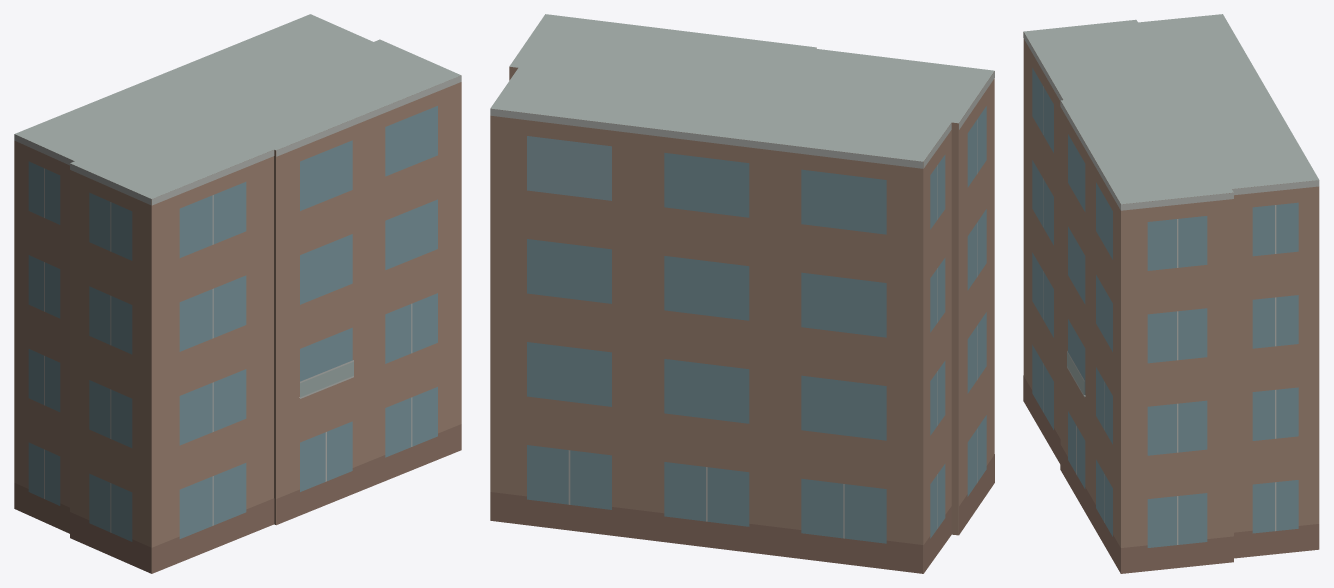
File: survey-upis-32832232.glb
3 views of the same model, side by side, from view 1: azimuth 30°, elevation 25°; view 2: azimuth 150°, elevation 25°; view 3: azimuth 270°, elevation 25° (orthographic). The views are drawn at different scales.
Visible parts, largest first — view 1: survey-upis-32832232.tmp; view 2: survey-upis-32832232.tmp; view 3: survey-upis-32832232.tmp.
Boxes of the visible parts, bbox=[...] form: survey-upis-32832232.tmp: bbox=[14, 14, 461, 573]; survey-upis-32832232.tmp: bbox=[490, 14, 994, 573]; survey-upis-32832232.tmp: bbox=[1023, 14, 1319, 573].
Size of the model in its own units: 15.64 by 14.15 by 10.28.
